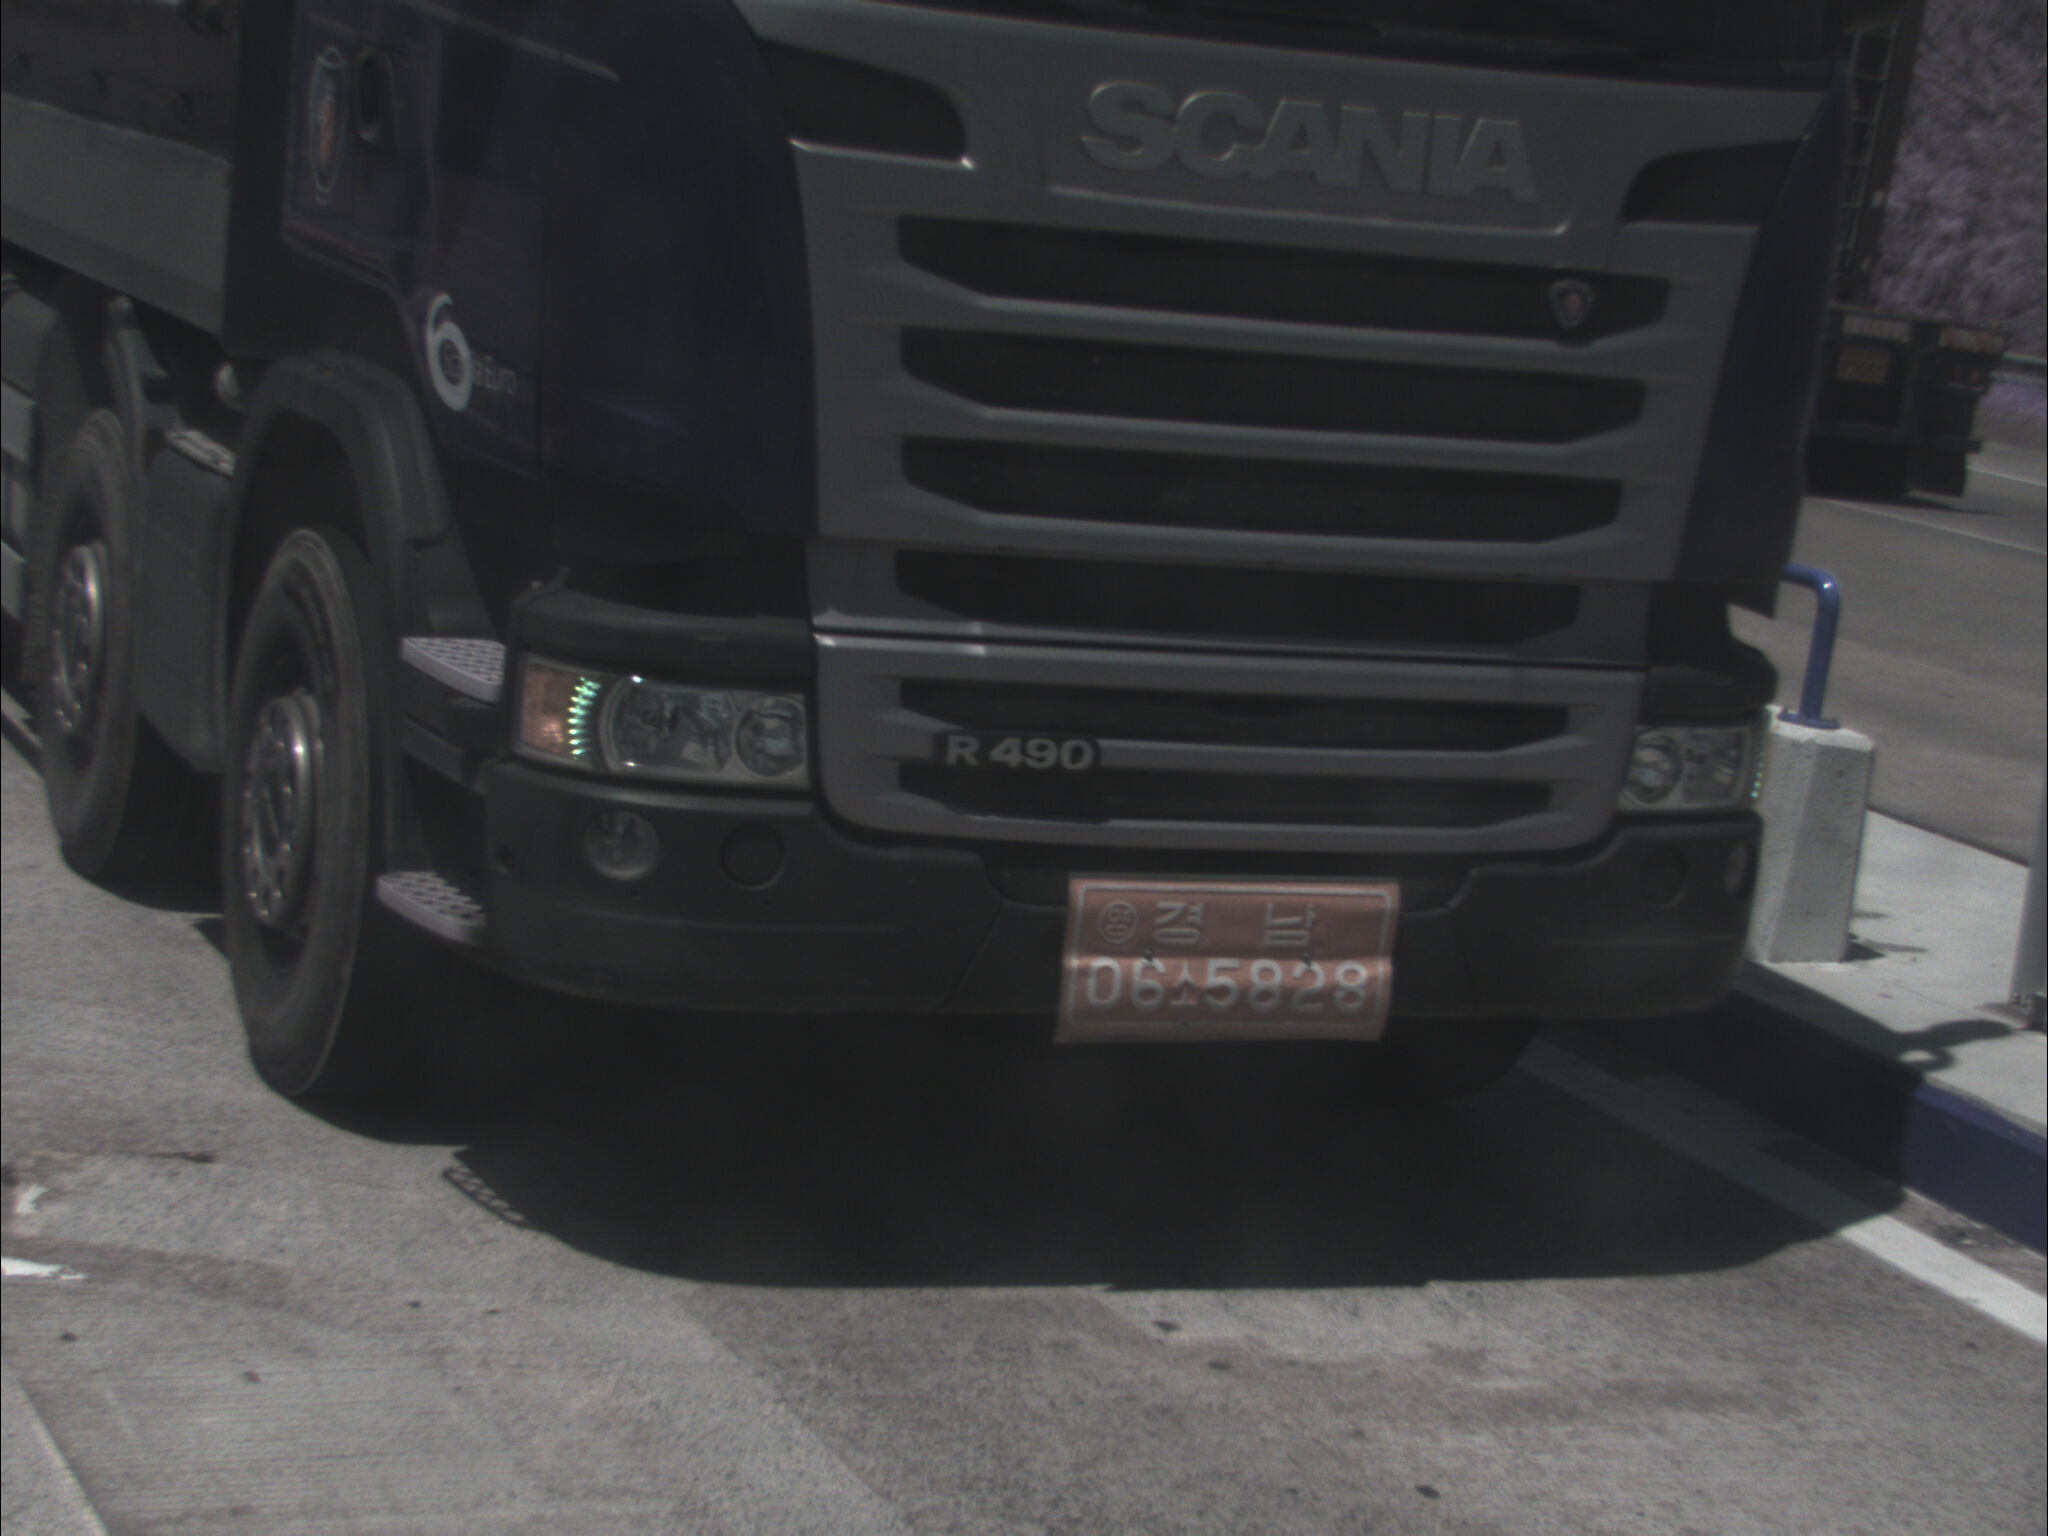car: (1, 1, 1931, 1130)
plate: (1048, 870, 1406, 1053)
